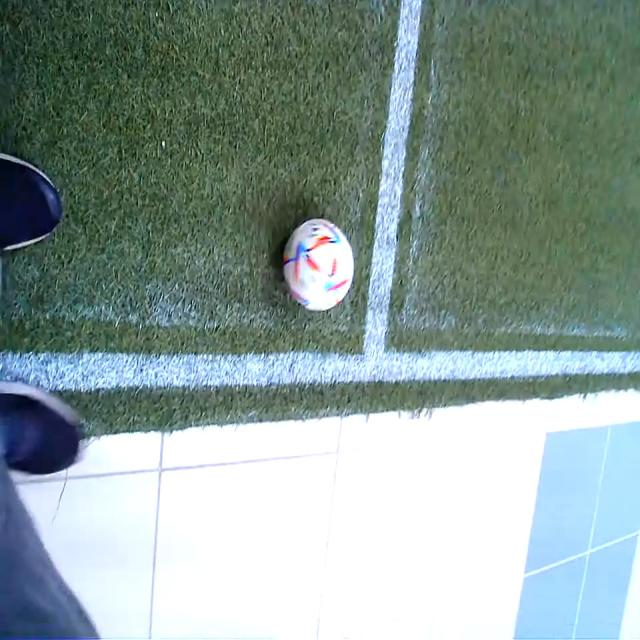ball: (284, 217, 354, 311)
